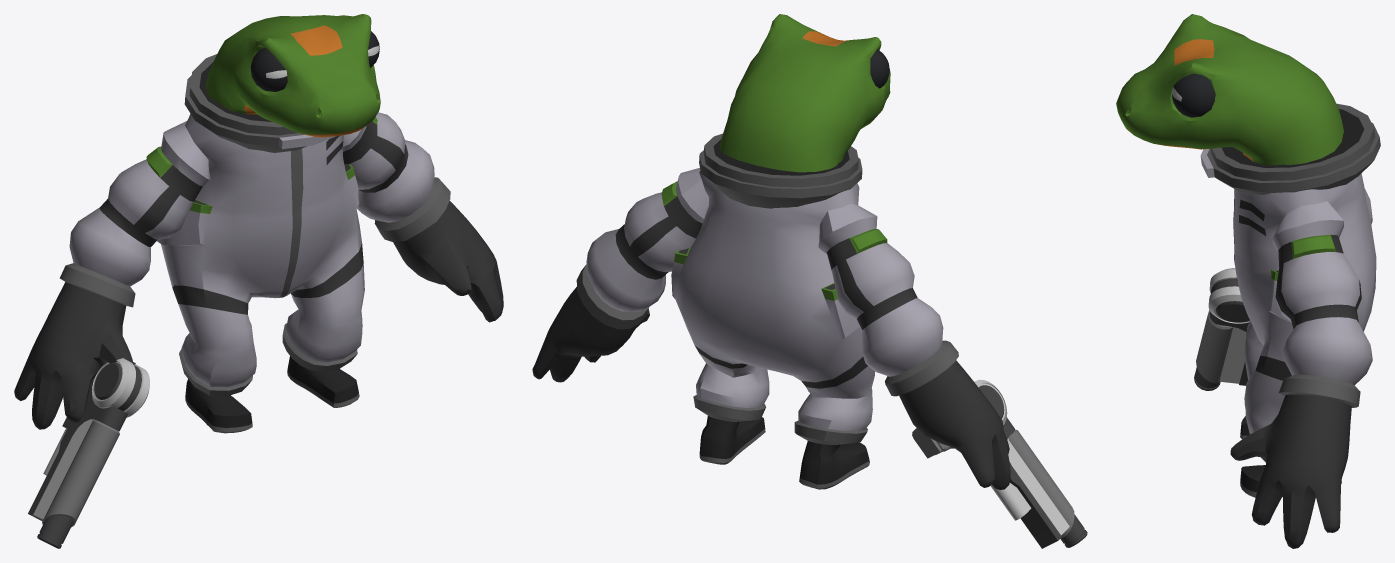
File: astronaut_finn_the_frog.glb
3 renders of one model, left to right at view 1: azimuth 30°, elevation 25°; view 2: azimuth 150°, elevation 25°; view 3: azimuth 270°, elevation 25°, orthographic. The views are drawn at different scales.
Visible parts, largest first — view 1: FinnTheFrog_Cube.021, Pistol_Cube.074; view 2: FinnTheFrog_Cube.021, Pistol_Cube.074; view 3: FinnTheFrog_Cube.021, Pistol_Cube.074.
Part boxes in pixels (x1,y1,x2,y2): FinnTheFrog_Cube.021: (14, 14, 503, 433); Pistol_Cube.074: (28, 358, 149, 548); FinnTheFrog_Cube.021: (532, 14, 1010, 489); Pistol_Cube.074: (912, 379, 1087, 548); FinnTheFrog_Cube.021: (1116, 14, 1380, 548); Pistol_Cube.074: (1194, 268, 1249, 390).
Size of the model in its own units: 3.31 by 2.9 by 1.45.
1 material, 1 textured.
